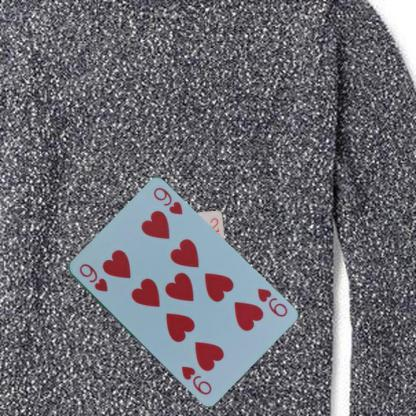9h: (76, 260, 109, 294), (254, 286, 289, 318)
